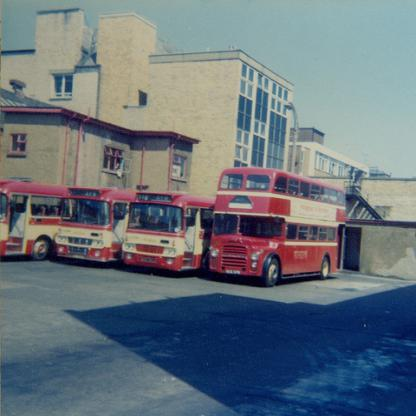bus: (202, 160, 350, 293), (118, 184, 218, 279), (49, 181, 143, 266), (0, 176, 77, 263)
